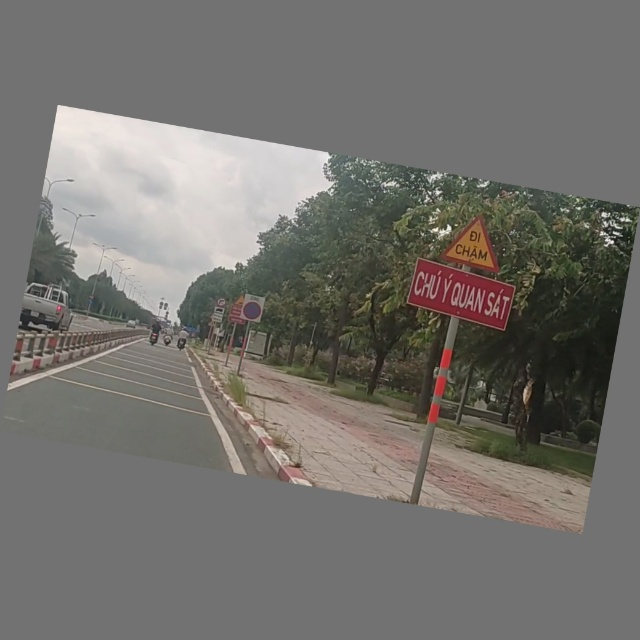P.123b: (216, 297, 227, 308)
P.130: (237, 292, 269, 325)
S.505a*Xe tai: (210, 307, 226, 325)
W.245a: (439, 209, 510, 276)
